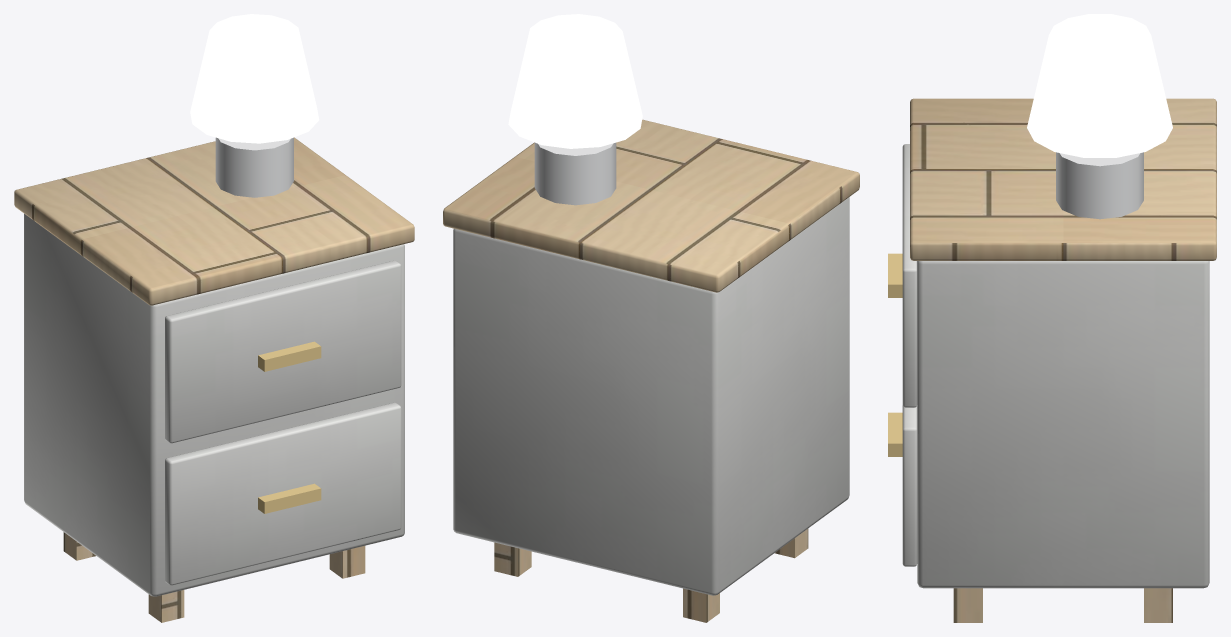
3 renders of one model, left to right at view 1: azimuth 30°, elevation 25°; view 2: azimuth 150°, elevation 25°; view 3: azimuth 270°, elevation 25°, orthographic. The views are drawn at different scales.
Parts seen in each view (by area): view 1: Decor_nightstand; view 2: Decor_nightstand; view 3: Decor_nightstand.
Part boxes in pixels (left/top/right/bottom): Decor_nightstand: left=14, top=14, right=414, bottom=622; Decor_nightstand: left=443, top=14, right=859, bottom=622; Decor_nightstand: left=888, top=14, right=1216, bottom=622.
Bounding box in the file's own units: 0.47 × 0.85 × 0.45.
5 materials, 2 textured.
